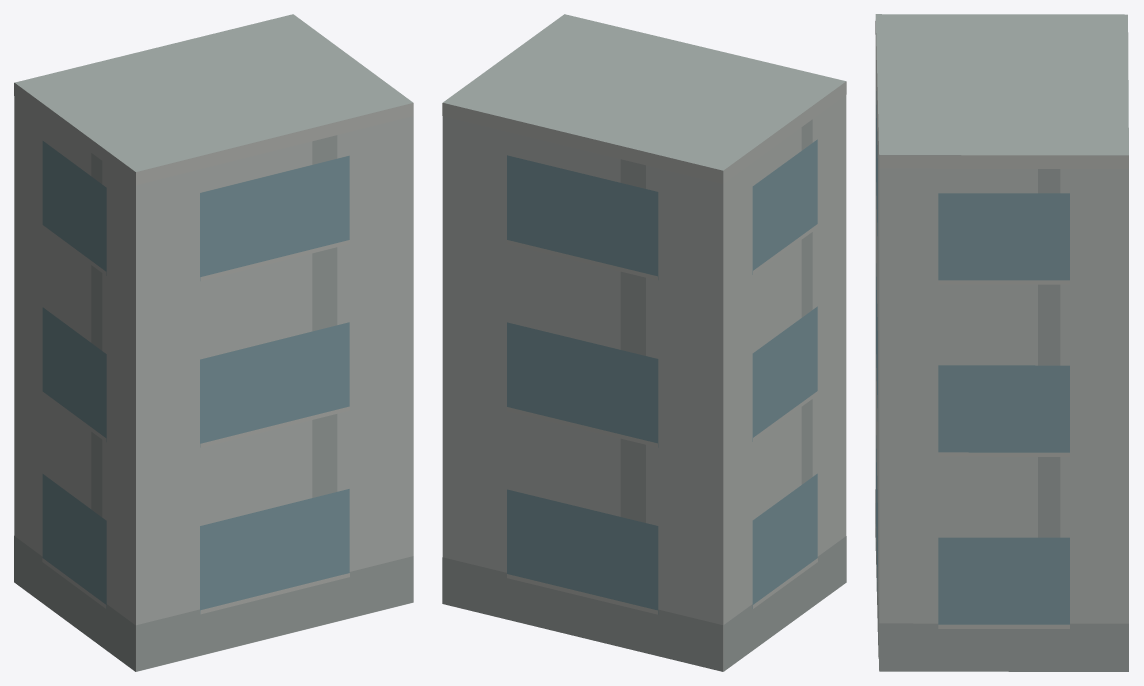
The model's file is survey-upis-32647964.glb.
3 renders of one model, left to right at view 1: azimuth 30°, elevation 25°; view 2: azimuth 150°, elevation 25°; view 3: azimuth 270°, elevation 25°, orthographic. The views are drawn at different scales.
Parts seen in each view (by area): view 1: survey-upis-32647964.tmp; view 2: survey-upis-32647964.tmp; view 3: survey-upis-32647964.tmp.
Boxes of the visible parts, left/top/right/bottom form: survey-upis-32647964.tmp: left=14, top=14, right=413, bottom=671; survey-upis-32647964.tmp: left=442, top=14, right=846, bottom=671; survey-upis-32647964.tmp: left=875, top=14, right=1128, bottom=671.
Size of the model in its own units: 5.39 by 9.15 by 4.08.
